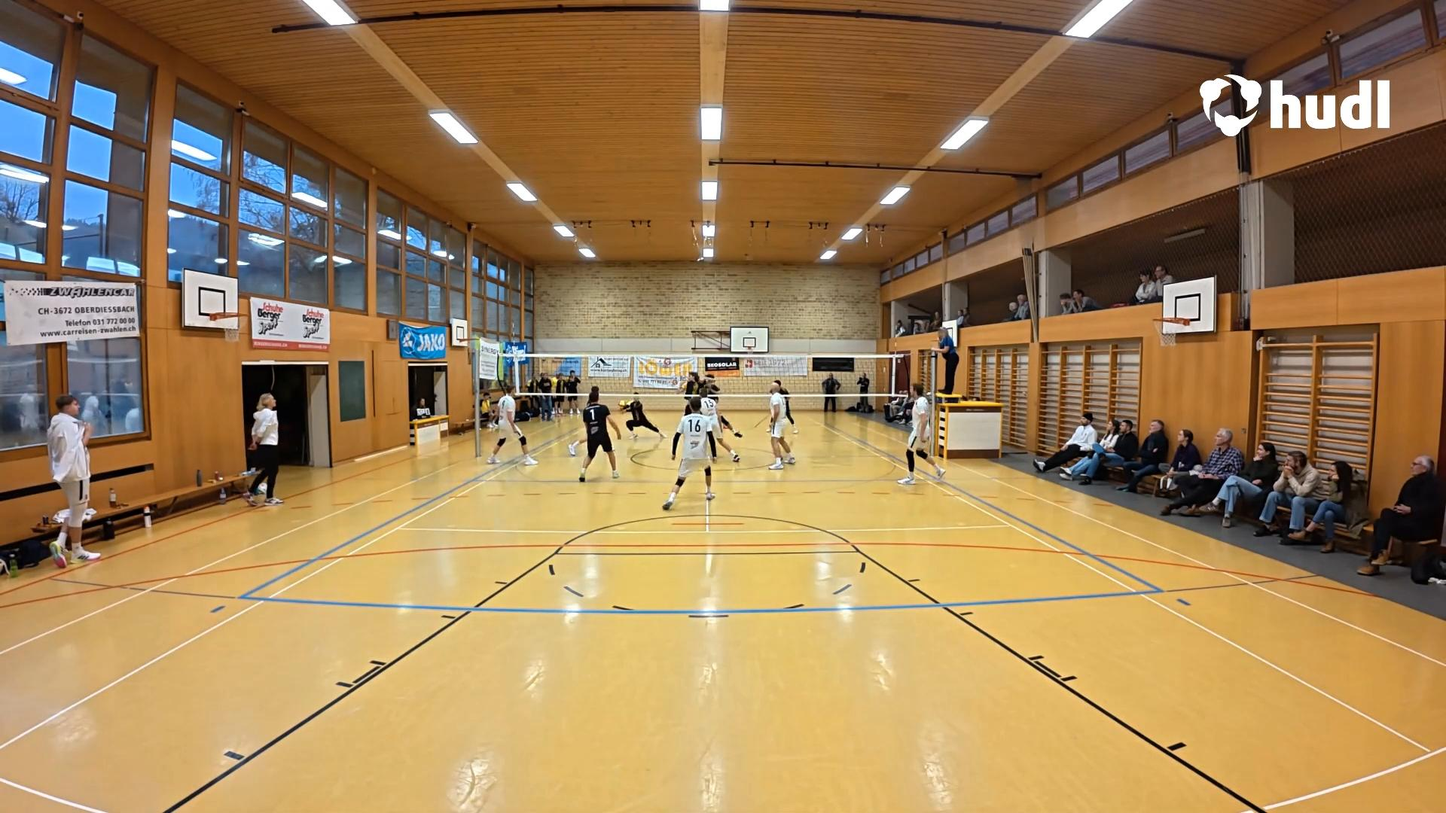Dig: (618, 392, 666, 442)
Player: (667, 399, 721, 506), (575, 390, 621, 482), (487, 384, 532, 466), (898, 384, 933, 487), (763, 377, 798, 467), (674, 368, 703, 415)
ball: (619, 397, 628, 410)
